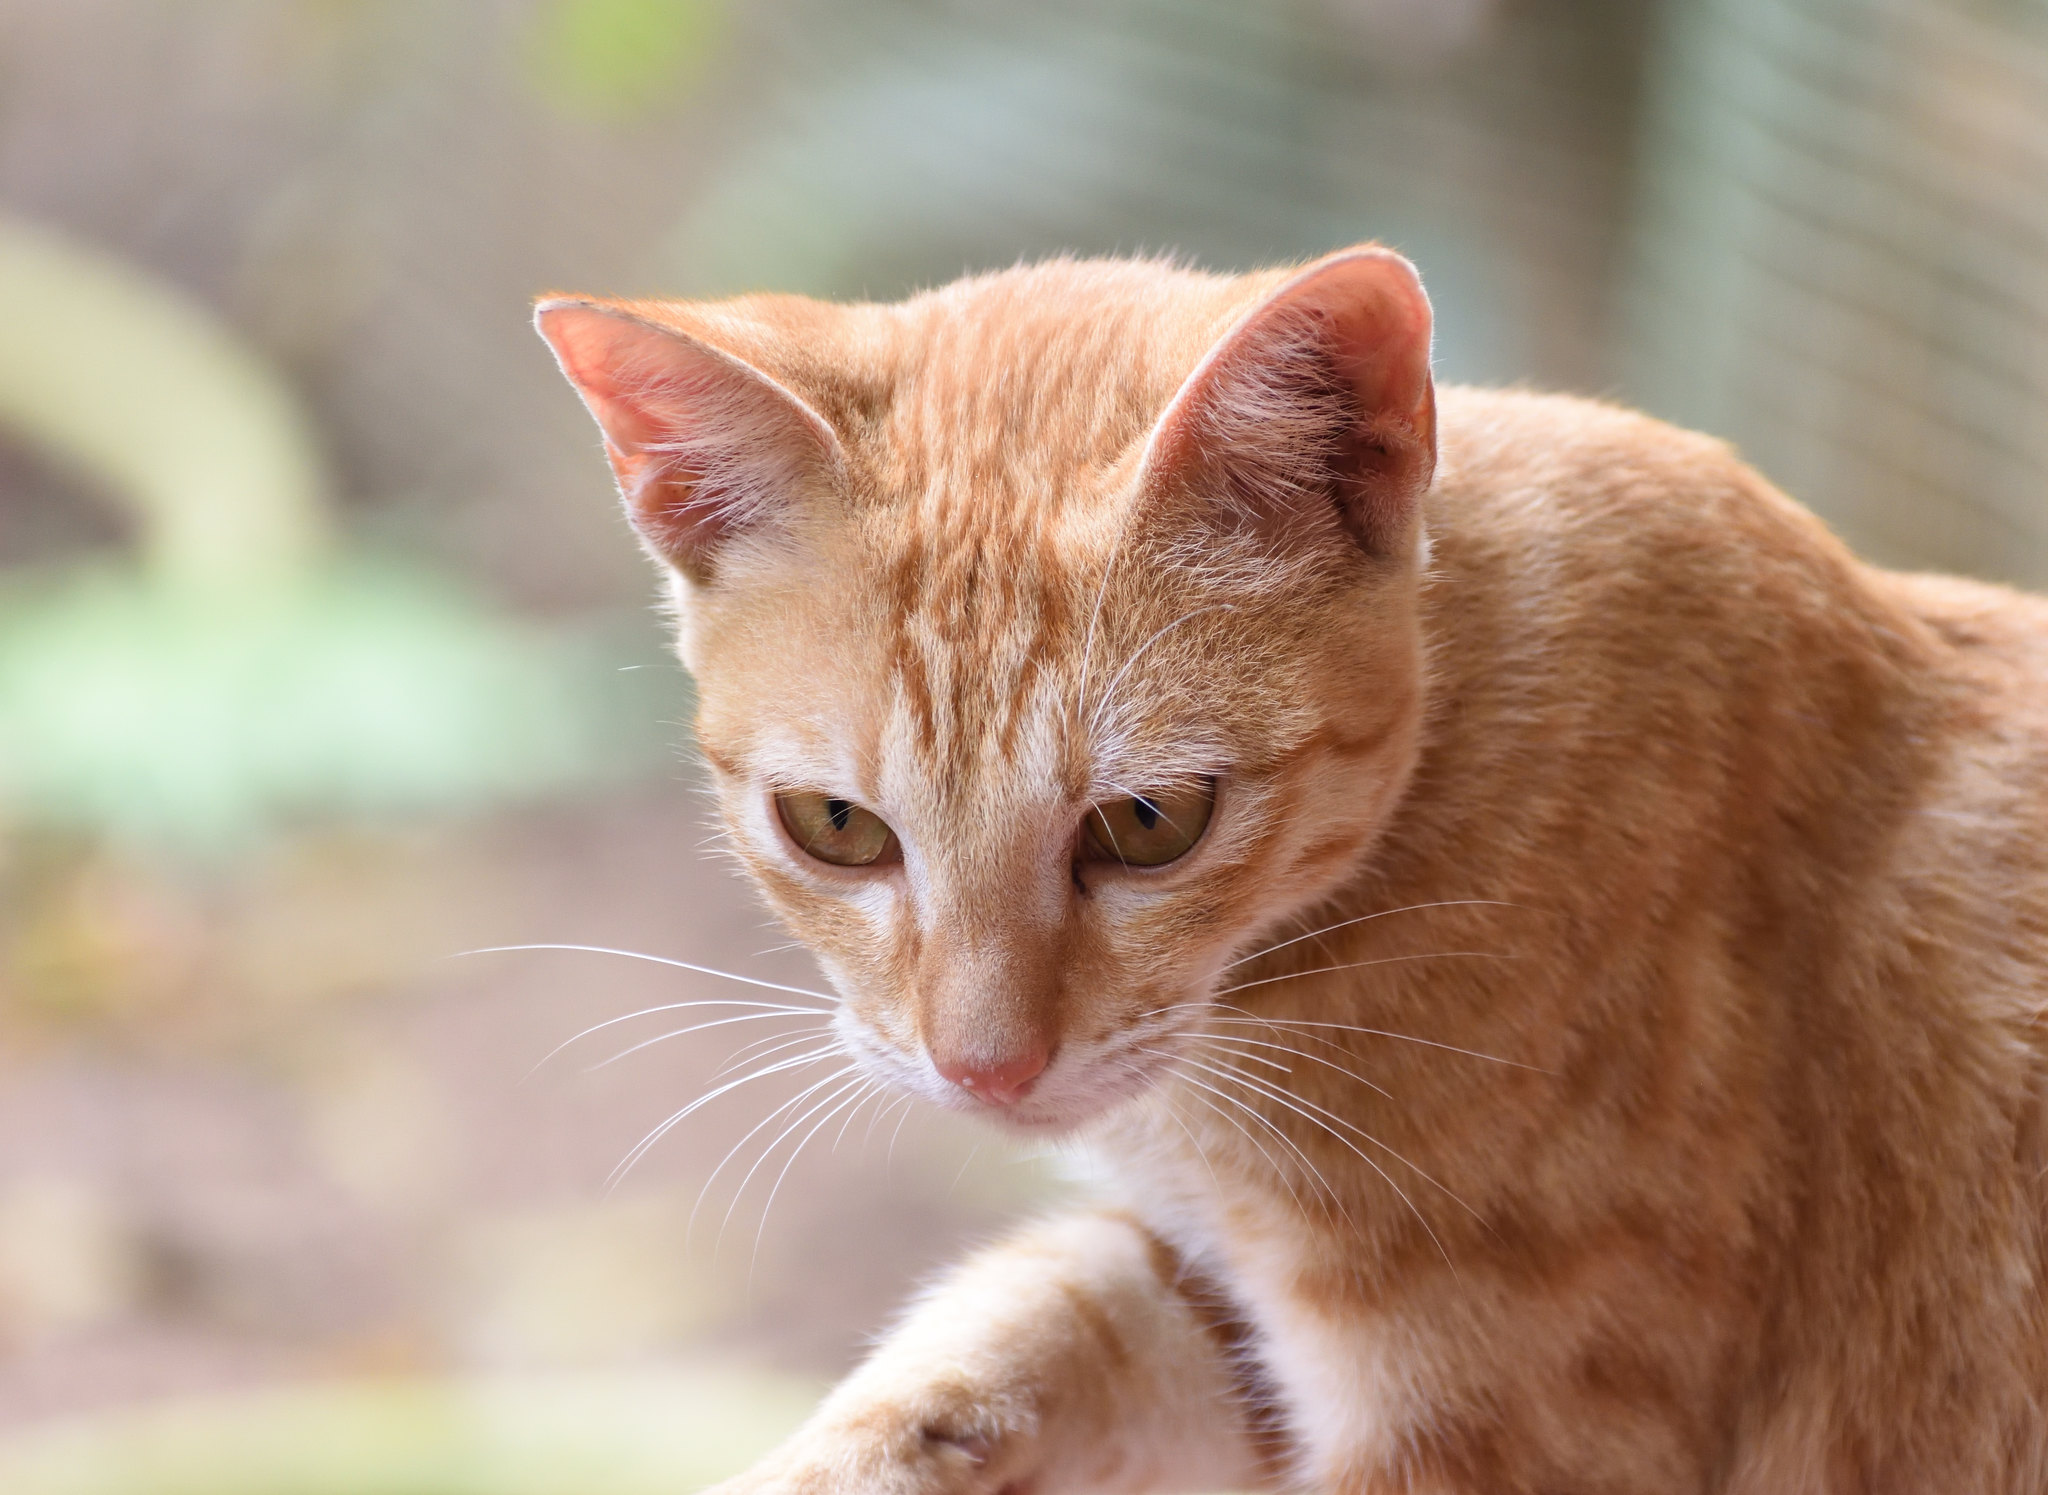cat: (518, 261, 2046, 1495)
